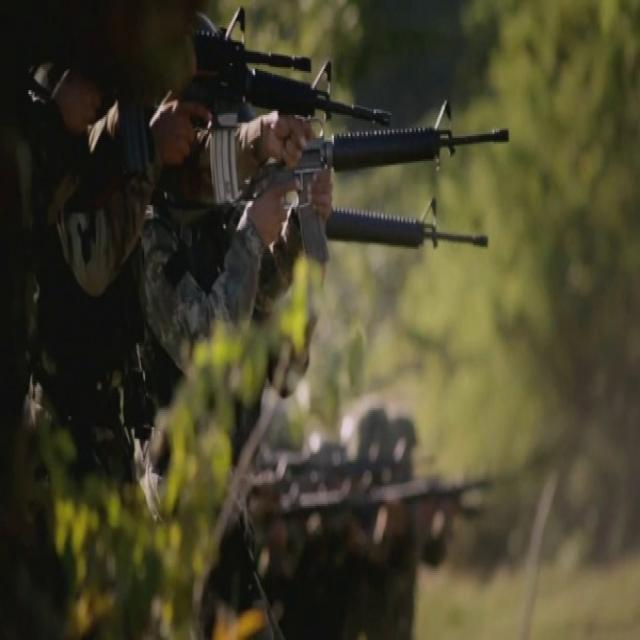rifle: (162, 7, 394, 210), (248, 102, 518, 270), (280, 192, 492, 263)
